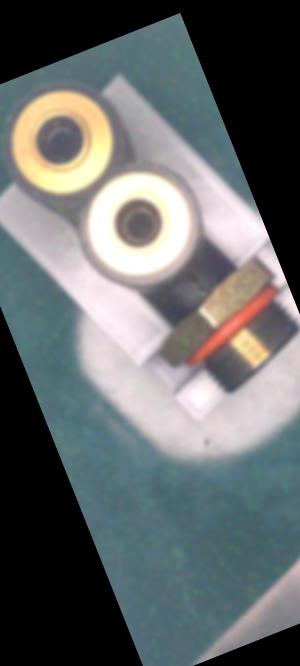craze: (183, 268, 211, 305)
